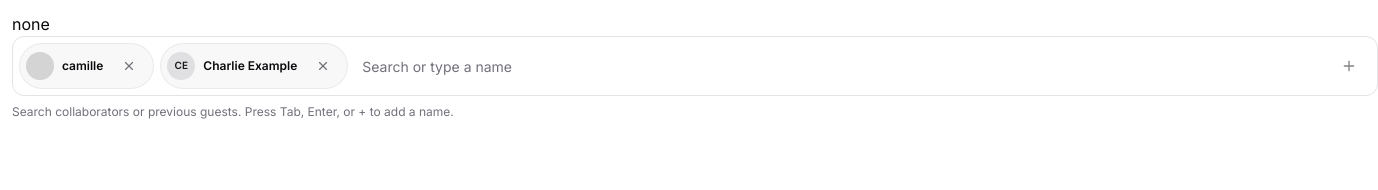
Test: MeetingParticipantPicker › clears the guest steward when Backspace removes the participant
The image size is (1378, 190).
Step 1. Click the button with aria-label "Make Charlie Example steward / facilitator" → (235, 66), box 165,48 -> 305,84
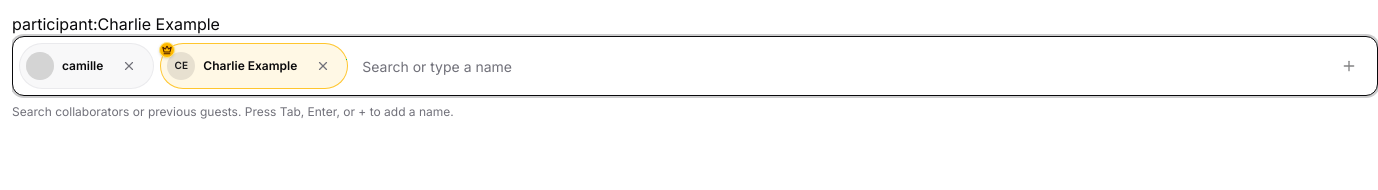
Step 2. Press Backspace in the dropdown with id "steward-participants", box 354,46 -> 1321,86
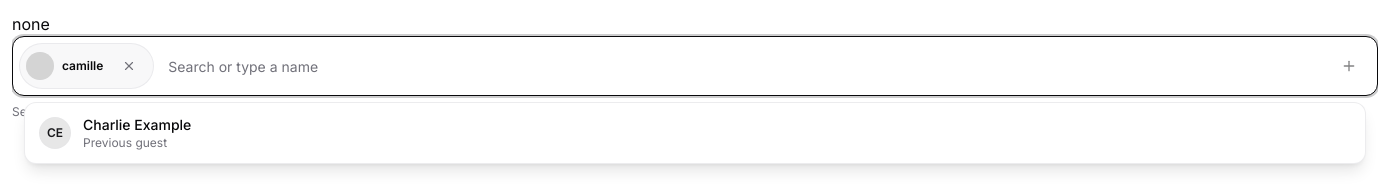
Result: the text with test id "steward-reference" reads "none" at 12,14 -> 50,34
